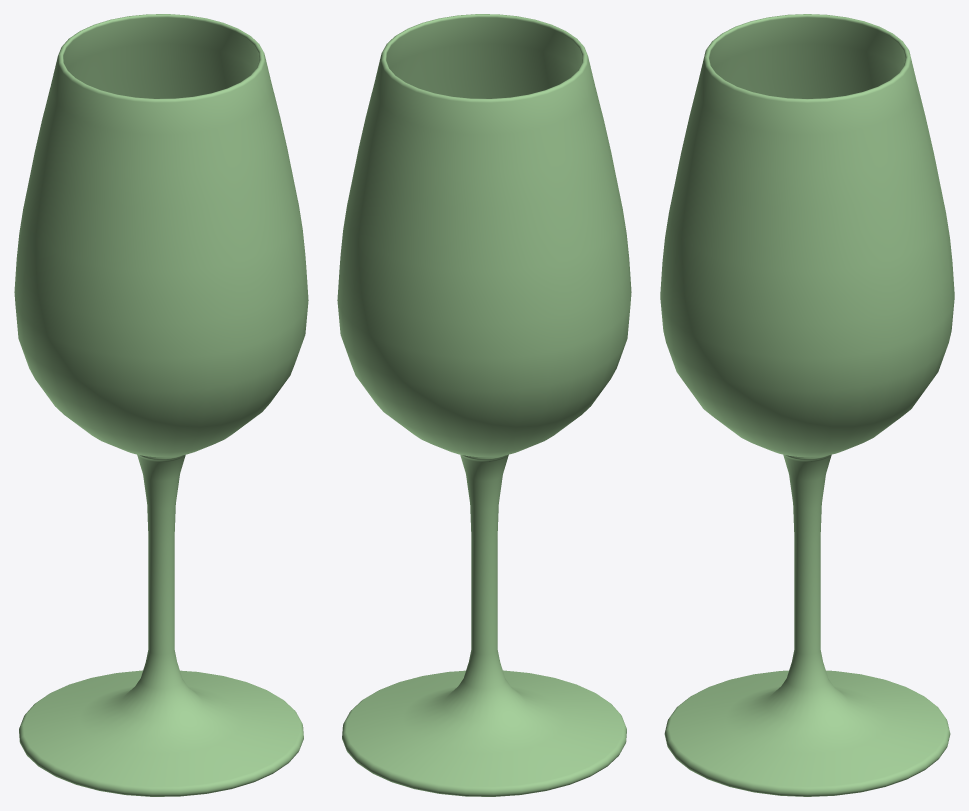
File: glass-frags.glb
The picture shows the model from 3 angles, left to right: view 1: azimuth 30°, elevation 25°; view 2: azimuth 150°, elevation 25°; view 3: azimuth 270°, elevation 25°; orthographic projection.
Parts seen in each view (by area): view 1: frag_5, frag_6, frag_9, frag_1, frag_0, frag_7, frag_2; view 2: frag_6, frag_7, frag_0, frag_4, frag_9, frag_5, frag_1, frag_2, frag_3; view 3: frag_6, frag_5, frag_4, frag_1, frag_0, frag_2, frag_3, frag_9.
Part boxes in pixels (left/top/right/bottom): frag_5: left=60, top=91, right=308, bottom=371; frag_6: left=30, top=14, right=276, bottom=251; frag_9: left=14, top=265, right=302, bottom=457; frag_1: left=101, top=454, right=303, bottom=796; frag_0: left=19, top=454, right=180, bottom=790; frag_7: left=14, top=172, right=69, bottom=287; frag_2: left=40, top=670, right=271, bottom=700; frag_6: left=345, top=14, right=616, bottom=245; frag_7: left=370, top=223, right=620, bottom=398; frag_0: left=414, top=454, right=626, bottom=796; frag_4: left=337, top=214, right=522, bottom=471; frag_9: left=485, top=232, right=631, bottom=449; frag_5: left=411, top=29, right=626, bottom=236; frag_1: left=355, top=617, right=625, bottom=726; frag_2: left=342, top=706, right=487, bottom=796; frag_3: left=460, top=455, right=500, bottom=515; frag_6: left=701, top=14, right=940, bottom=279; frag_5: left=660, top=69, right=855, bottom=382; frag_4: left=768, top=239, right=954, bottom=461; frag_1: left=664, top=423, right=863, bottom=796; frag_0: left=728, top=457, right=926, bottom=736; frag_2: left=824, top=698, right=950, bottom=795; frag_3: left=736, top=367, right=829, bottom=515; frag_9: left=662, top=320, right=747, bottom=438.
Size of the model in its own units: 0.0684 by 0.1751 by 0.0684.
